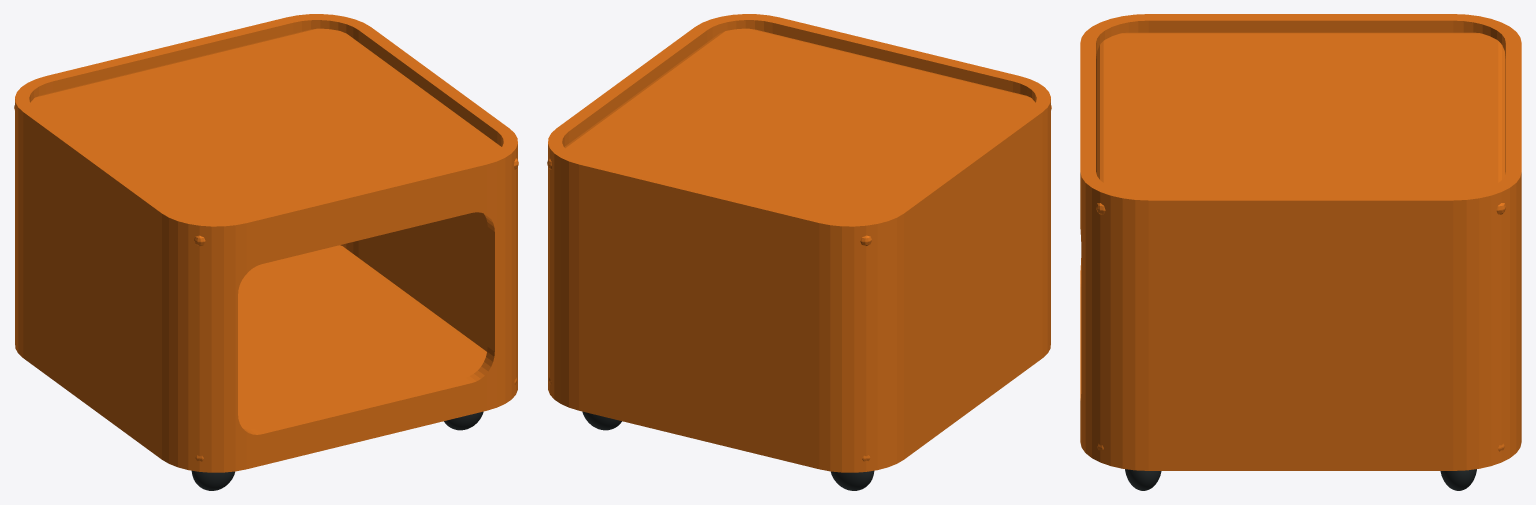
Rendered from plant-trolley.glb.
3 renders of one model, left to right at view 1: azimuth 30°, elevation 25°; view 2: azimuth 150°, elevation 25°; view 3: azimuth 270°, elevation 25°, orthographic. The views are drawn at different scales.
Visible parts, largest first — view 1: plant-trolley; view 2: plant-trolley; view 3: plant-trolley.
Boxes of the visible parts, <box> form: plant-trolley: <box>14,14,518,490</box>; plant-trolley: <box>547,14,1051,490</box>; plant-trolley: <box>1080,14,1521,490</box>.
Size of the model in its own units: 0.42 by 0.3305 by 0.42.
